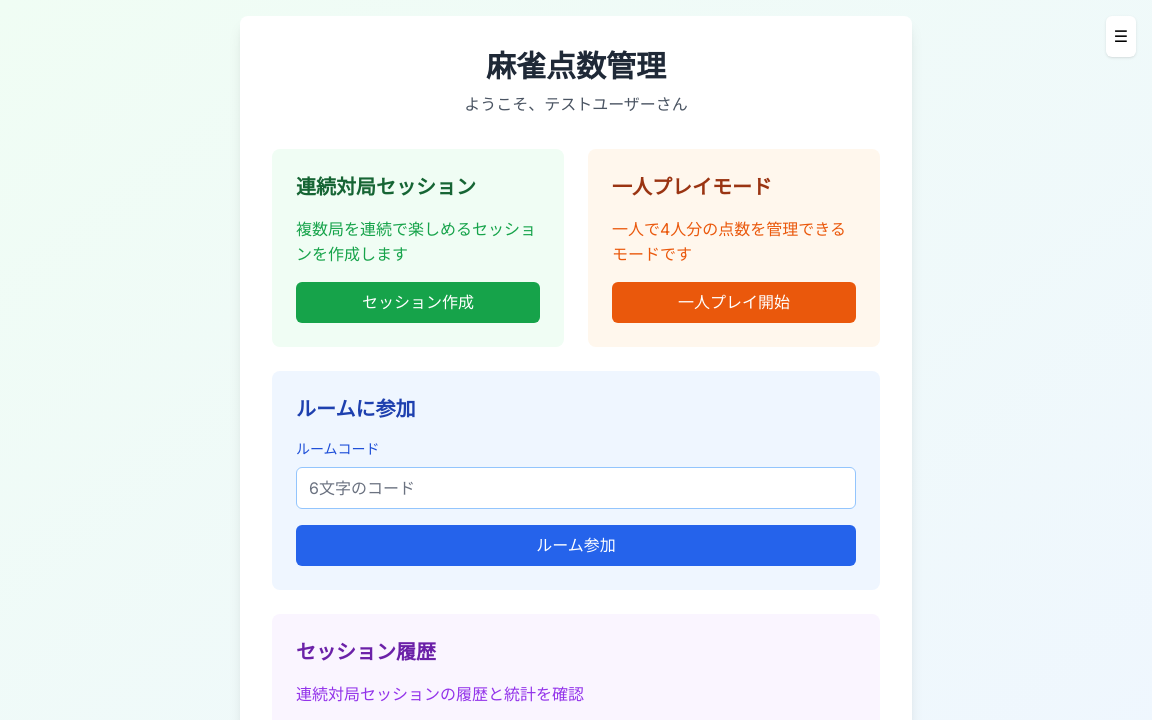
HomePage › Room Join Functionality › validates empty room code
Click the button "ルーム参加": coordinates (576, 546) [296,525,856,566]
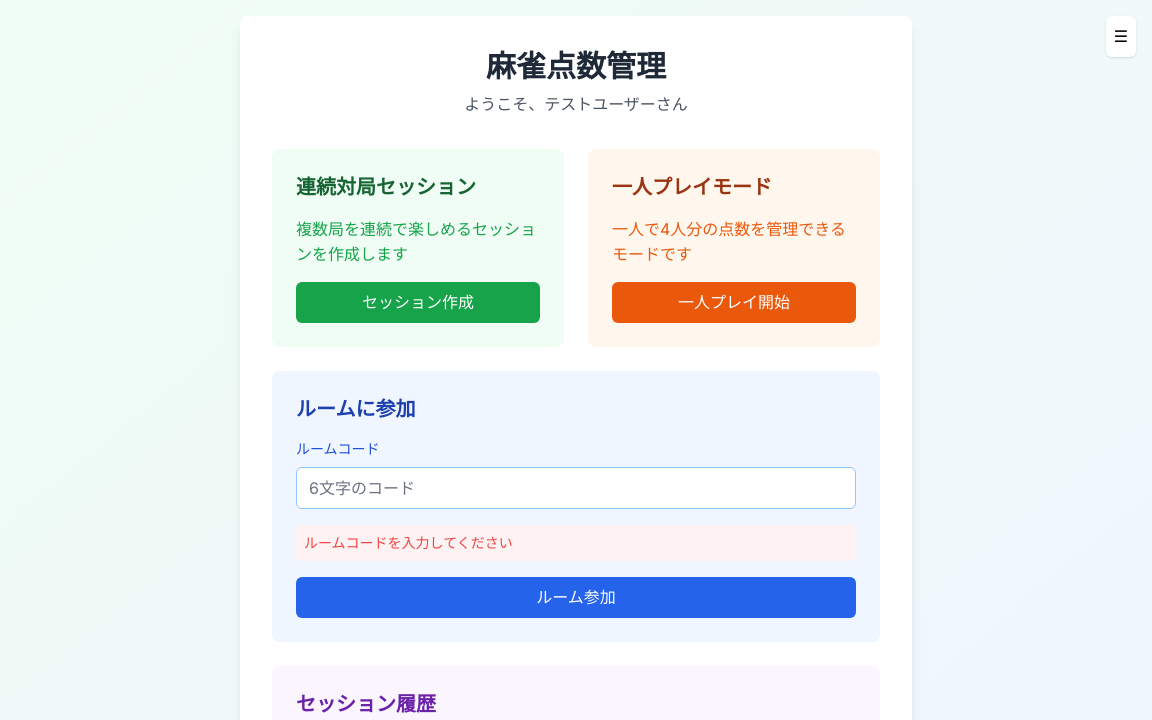
expect the text "ルームコードを入力してください" is shown: met, box [296,525,856,561]
